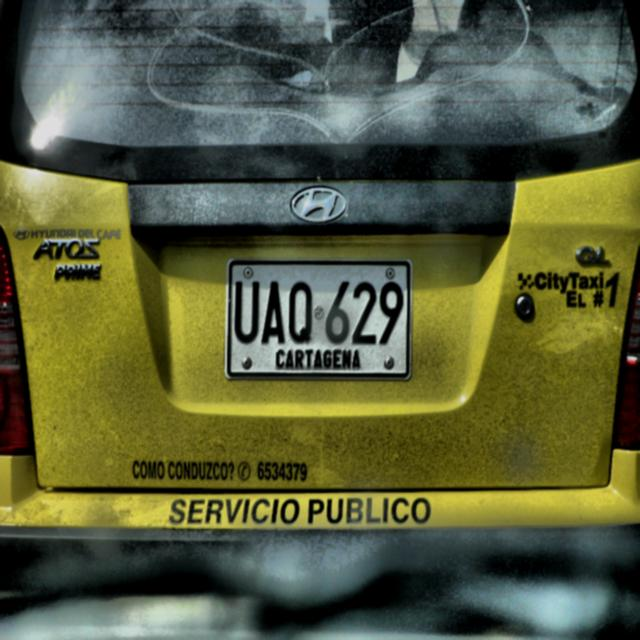plate: (224, 259, 413, 381)
